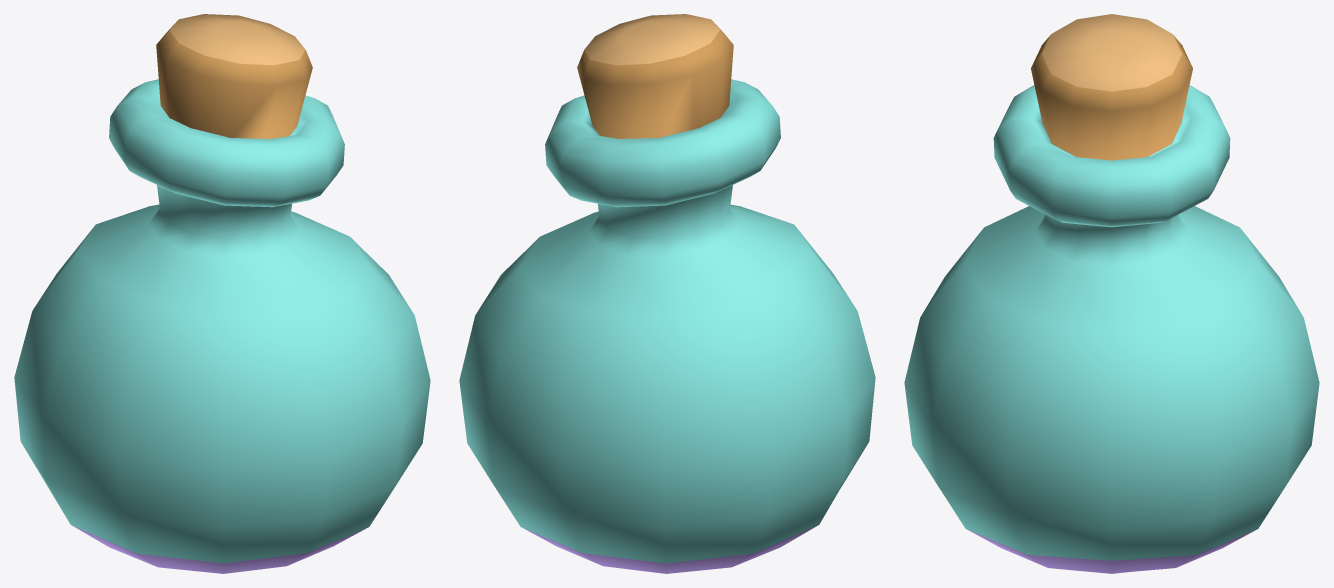
File: SM_Potion.fbx
3 views of the same model, side by side, from view 1: azimuth 30°, elevation 25°; view 2: azimuth 150°, elevation 25°; view 3: azimuth 270°, elevation 25° (orthographic).
Parts seen in each view (by area): view 1: Potion; view 2: Potion; view 3: Potion.
Part boxes in pixels (bbox=[...]): Potion: bbox=[14, 14, 430, 573]; Potion: bbox=[459, 14, 875, 573]; Potion: bbox=[904, 14, 1319, 573].
Size of the model in its own units: 34.11 by 46.1 by 34.08.
